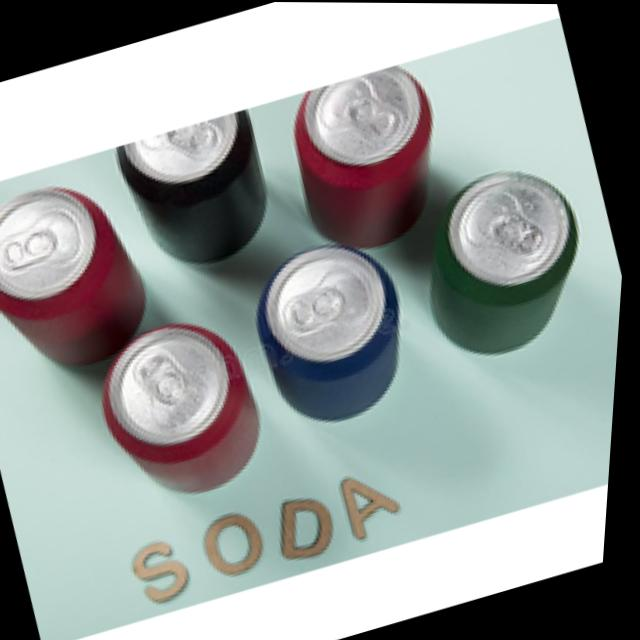aluminum_soda_cans: (235, 235, 436, 445), (428, 160, 607, 362), (271, 57, 454, 242), (98, 302, 273, 494), (0, 172, 156, 377), (99, 98, 280, 235)
